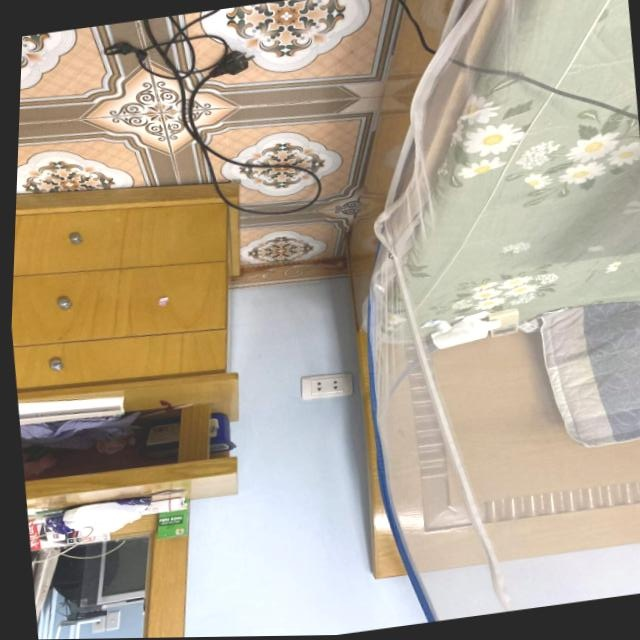outlet: (298, 371, 354, 403)
